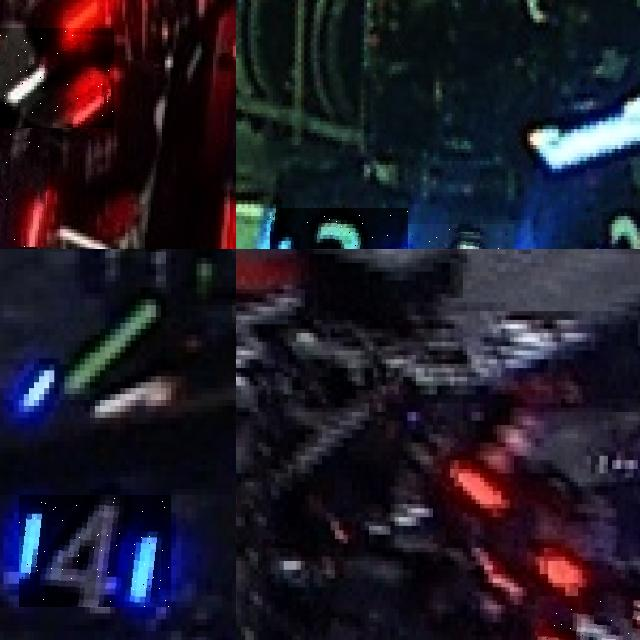B3: (270, 208, 408, 249)
B4: (19, 495, 171, 607), (373, 223, 514, 249)
R1: (0, 27, 114, 128), (0, 128, 51, 247), (535, 596, 640, 640)
